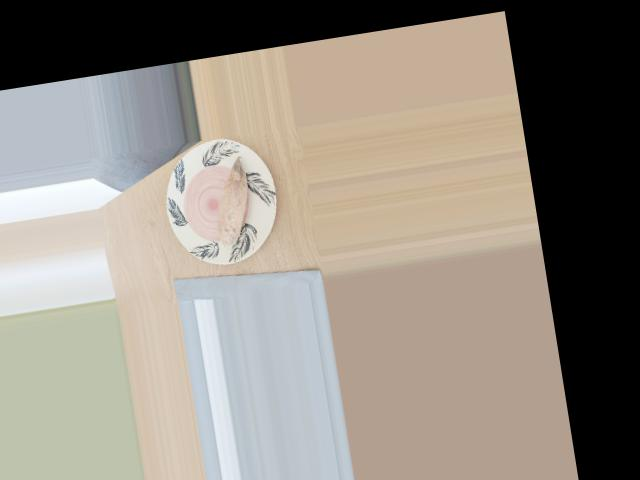sweet_potato: (203, 162, 262, 244)
